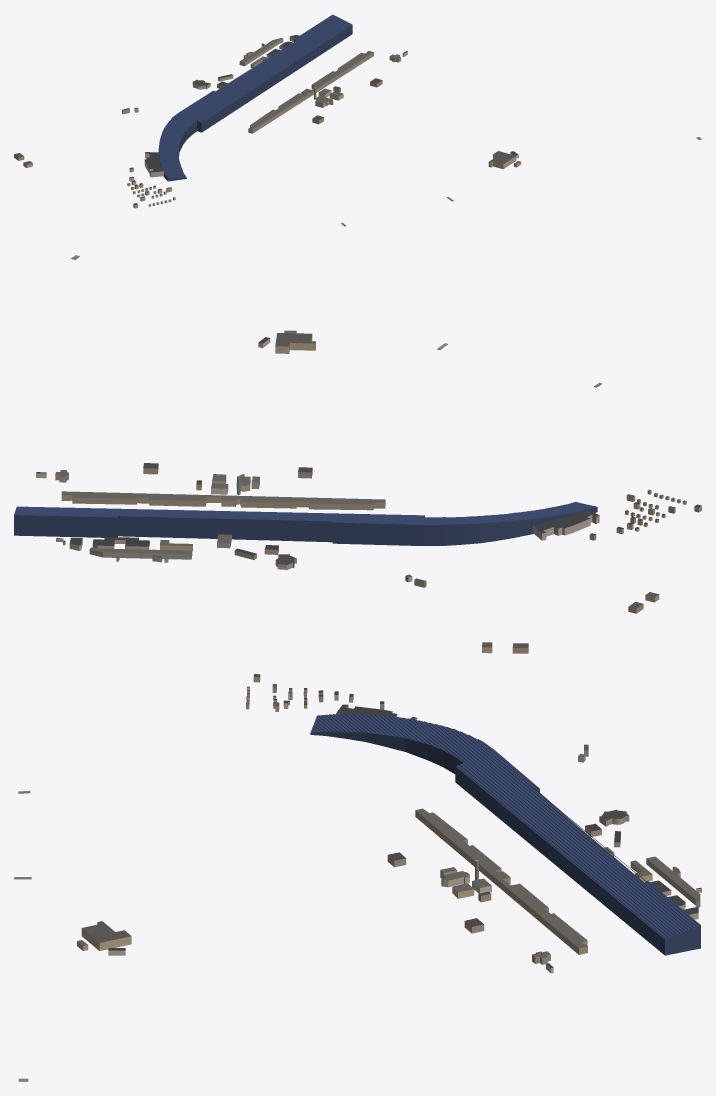
The model's file is scenery.glb.
The picture shows the model from 3 angles, top to bottom: view 1: azimuth 30°, elevation 25°; view 2: azimuth 150°, elevation 25°; view 3: azimuth 270°, elevation 25°; orthographic projection. The views are drawn at different scales.
Parts seen in each view (by area): view 1: chunk_14_15, chunk_15_15, chunk_13_15, chunk_15_14, chunk_15_16, chunk_14_14; view 2: chunk_14_15, chunk_15_15, chunk_13_15, chunk_15_14, chunk_14_14, chunk_15_16; view 3: chunk_14_15, chunk_15_15, chunk_15_14, chunk_13_15, chunk_15_16, chunk_14_14.
Boxes of the visible parts, x1,y1,x2,y2 form: chunk_14_15: (158, 14, 352, 181); chunk_15_15: (248, 51, 382, 133); chunk_13_15: (14, 152, 175, 208); chunk_15_14: (239, 35, 407, 67); chunk_15_16: (446, 151, 521, 201); chunk_14_14: (122, 55, 246, 114); chunk_14_15: (14, 467, 597, 545); chunk_15_15: (61, 463, 385, 510); chunk_13_15: (533, 489, 701, 613); chunk_15_14: (36, 470, 192, 562); chunk_14_14: (164, 534, 426, 587); chunk_15_16: (258, 330, 447, 353); chunk_14_15: (310, 713, 700, 955); chunk_15_15: (415, 808, 587, 954); chunk_15_14: (532, 856, 701, 973); chunk_13_15: (246, 642, 528, 720); chunk_15_16: (14, 877, 131, 955); chunk_14_14: (578, 744, 676, 872).
Bounding box in the file's own units: 1227 × 35.52 × 822.
